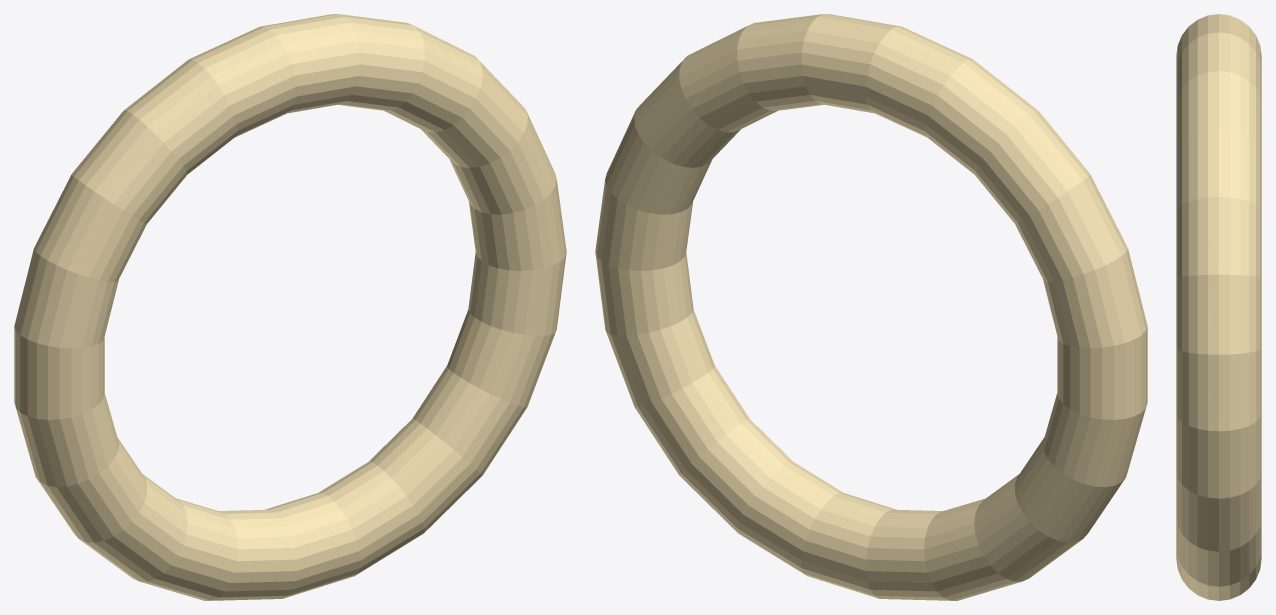
The model's file is tinker.obj.
3 views of the same model, side by side, from view 1: azimuth 30°, elevation 25°; view 2: azimuth 150°, elevation 25°; view 3: azimuth 270°, elevation 25° (orthographic). The views are drawn at different scales.
Visible parts, largest first — view 1: obj_0; view 2: obj_0; view 3: obj_0.
Part boxes in pixels (left/top/right/bottom): obj_0: left=14, top=14, right=566, bottom=600; obj_0: left=595, top=14, right=1147, bottom=600; obj_0: left=1176, top=14, right=1261, bottom=600.
Size of the model in its own units: 20.03 by 20.07 by 2.92.
